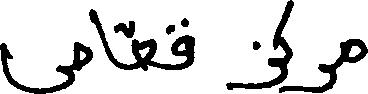X: (0, 4, 91, 93), (227, 18, 279, 93), (131, 16, 155, 75), (171, 13, 192, 74), (93, 5, 113, 68), (281, 0, 294, 93), (308, 58, 334, 93), (345, 34, 367, 67)
